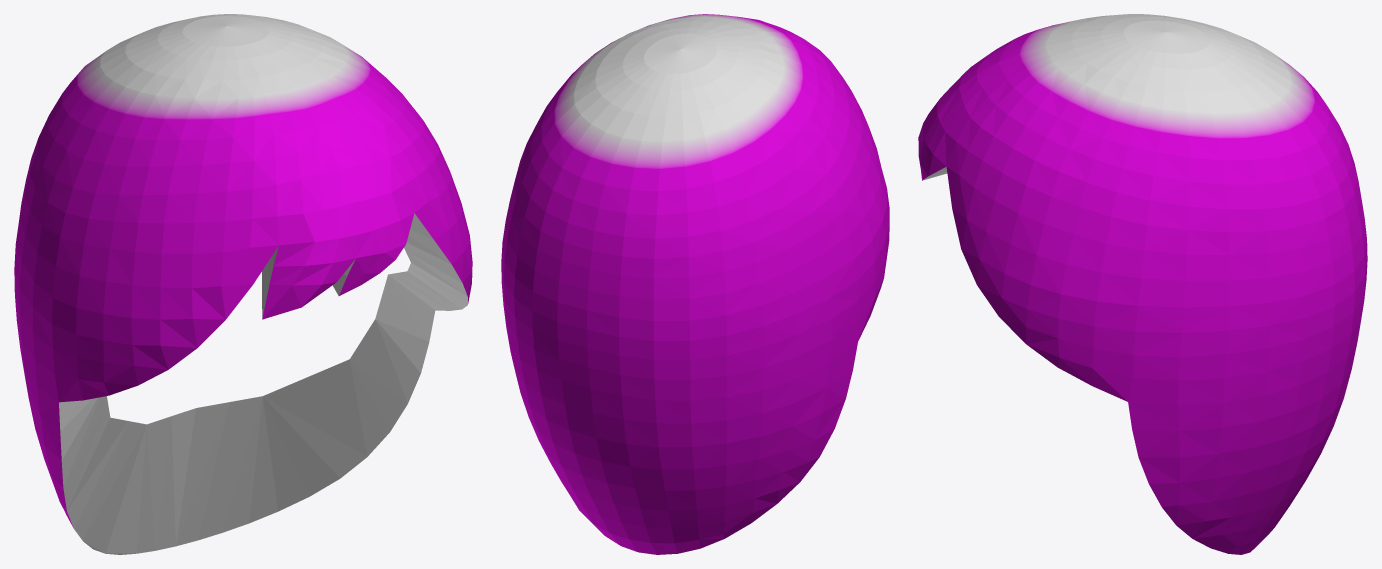
3 renders of one model, left to right at view 1: azimuth 30°, elevation 25°; view 2: azimuth 150°, elevation 25°; view 3: azimuth 270°, elevation 25°, orthographic. The views are drawn at different scales.
Visible parts, largest first — view 1: shape; view 2: shape; view 3: shape.
Boxes of the visible parts, box(x1,y1,x2,y2) form: shape: box(14, 14, 472, 554); shape: box(501, 14, 889, 554); shape: box(918, 14, 1367, 554).
Bounding box in the file's own units: 59.05 × 82.18 × 66.06.
